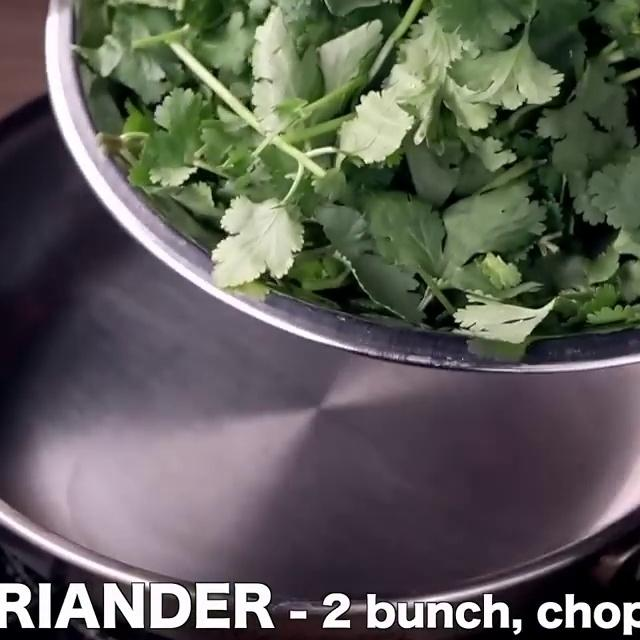cilantro: (103, 0, 640, 313)
